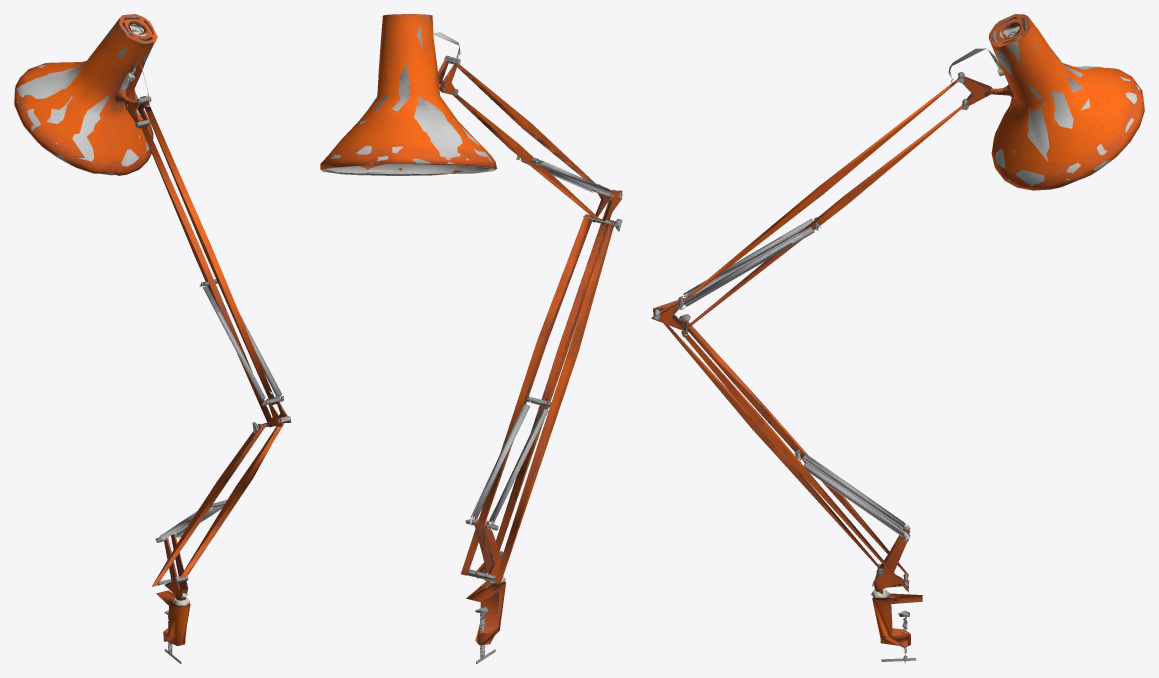
Rendered from desk_lamp_arm_01.glb.
The picture shows the model from 3 angles, left to right: view 1: azimuth 30°, elevation 25°; view 2: azimuth 150°, elevation 25°; view 3: azimuth 270°, elevation 25°; orthographic projection. The views are drawn at different scales.
Parts seen in each view (by area): view 1: desk_lamp_arm_01; view 2: desk_lamp_arm_01; view 3: desk_lamp_arm_01.
Boxes of the visible parts, x1,y1,x2,y2 form: desk_lamp_arm_01: (14, 14, 291, 663); desk_lamp_arm_01: (320, 14, 622, 663); desk_lamp_arm_01: (651, 14, 1144, 663).
Bounding box in the file's own units: 0.2017 × 0.8926 × 0.6132.
2 materials, 2 textured.
